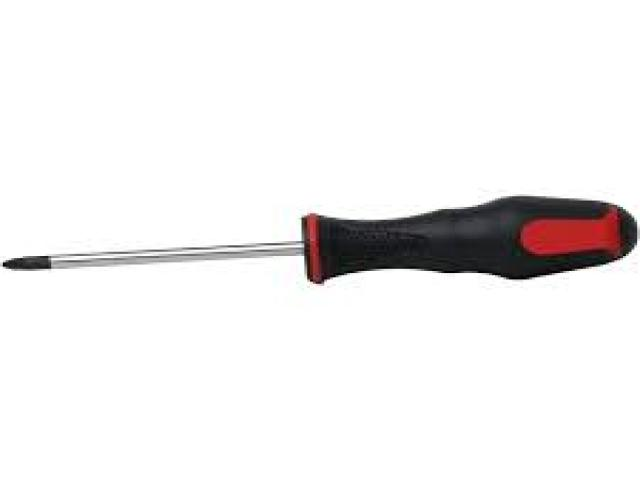Screwdriver: (2, 195, 640, 283)
